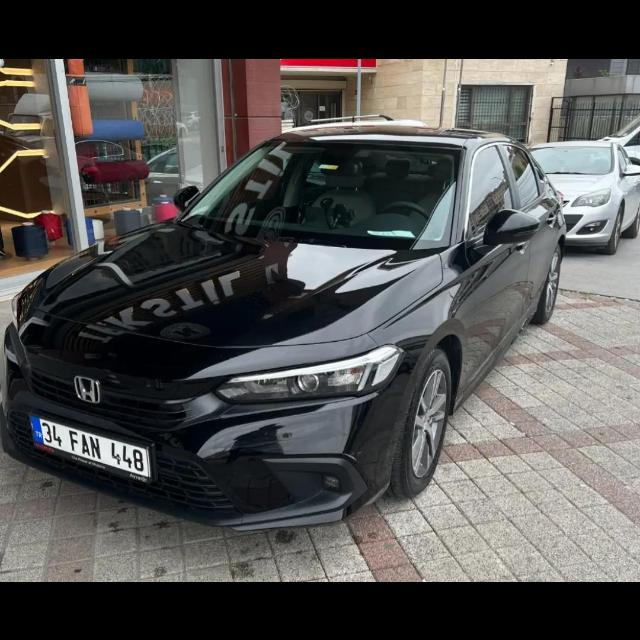Plaka: (34, 418, 150, 478)
